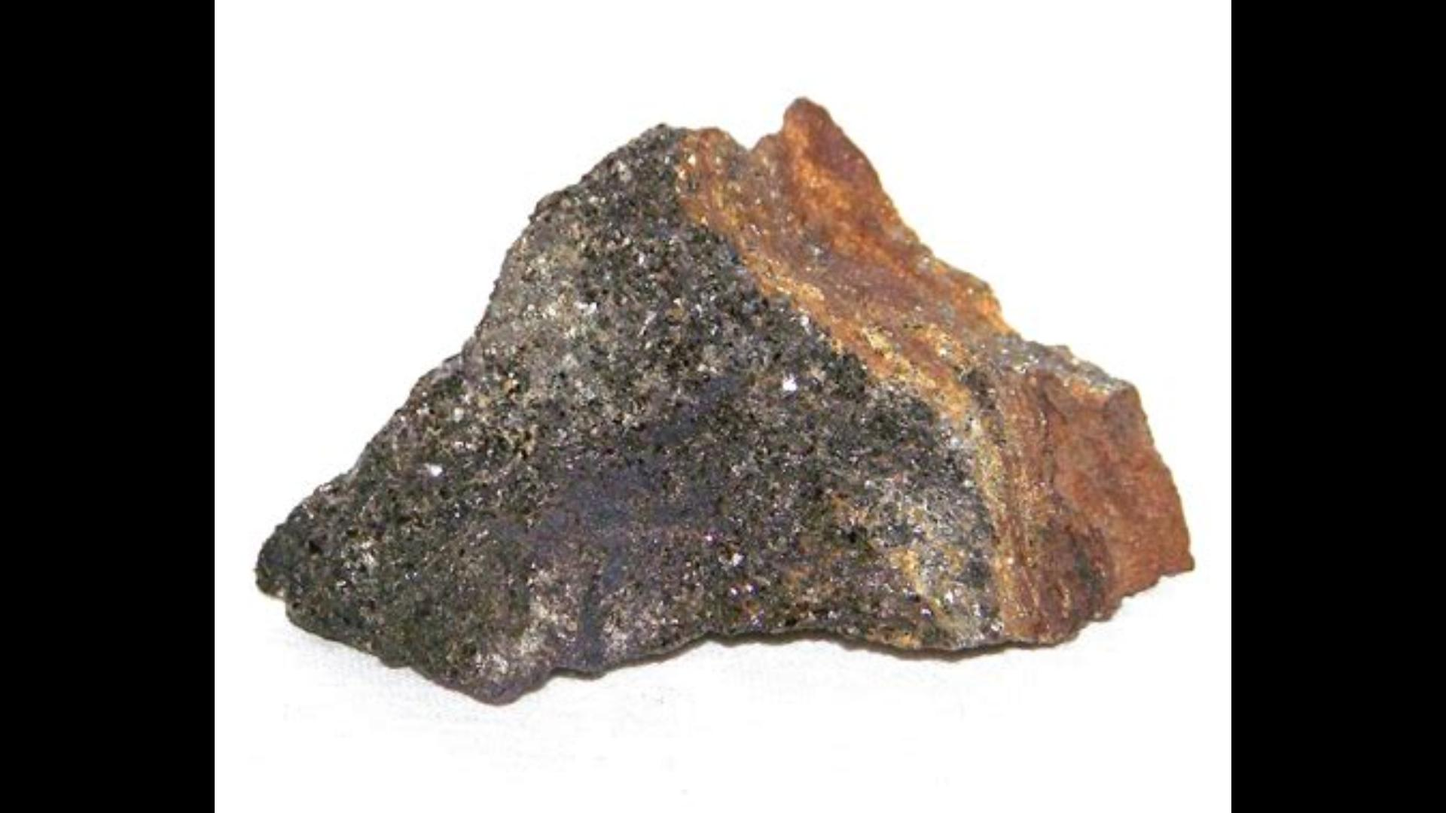rock: (255, 103, 1189, 699)
